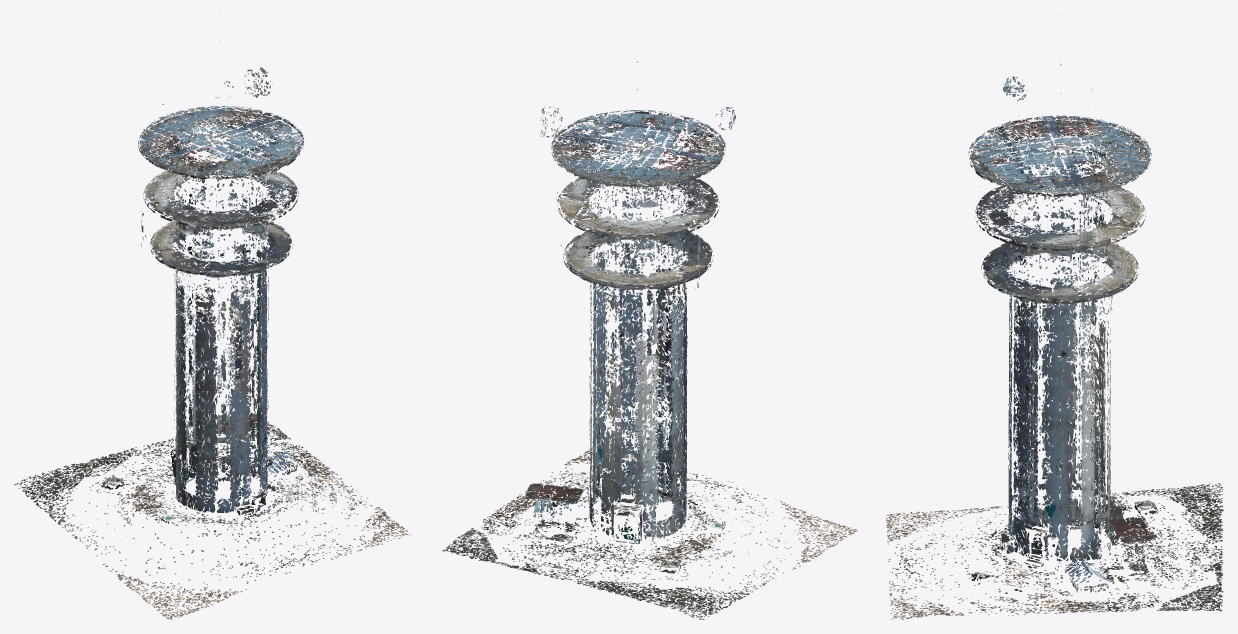
The model's file is SM_BroadcastTower.glb.
3 renders of one model, left to right at view 1: azimuth 30°, elevation 25°; view 2: azimuth 150°, elevation 25°; view 3: azimuth 270°, elevation 25°, orthographic. The views are drawn at different scales.
Parts seen in each view (by area): view 1: SM_BroadcastTower; view 2: SM_BroadcastTower; view 3: SM_BroadcastTower.
Boxes of the visible parts, box(x1,y1,x2,y2) form: SM_BroadcastTower: box(14, 14, 411, 619); SM_BroadcastTower: box(442, 61, 857, 619); SM_BroadcastTower: box(886, 14, 1223, 619).
Bounding box in the file's own units: 23.66 × 46.71 × 25.03.
1 material, 1 textured.
